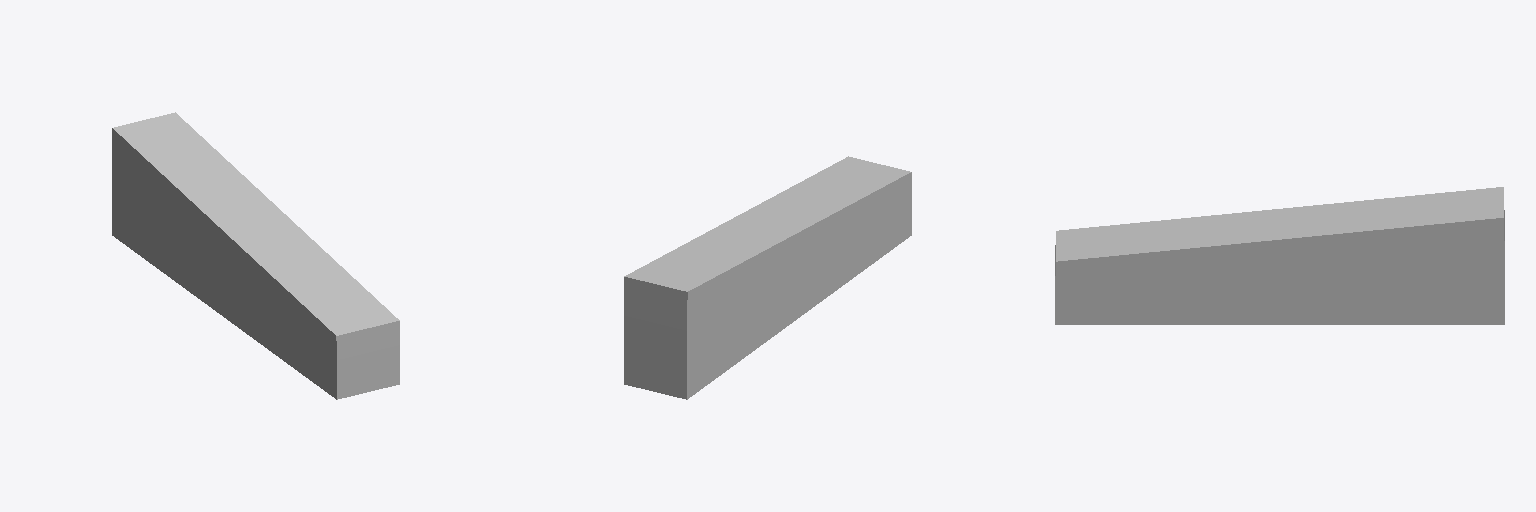
File: slope2.obj
3 renders of one model, left to right at view 1: azimuth 30°, elevation 25°; view 2: azimuth 150°, elevation 25°; view 3: azimuth 270°, elevation 25°, orthographic.
Parts seen in each view (by area): view 1: pCube1; view 2: pCube1; view 3: pCube1.
Part boxes in pixels (bbox=[...]): pCube1: bbox=[112, 112, 399, 399]; pCube1: bbox=[624, 156, 911, 399]; pCube1: bbox=[1055, 187, 1504, 324].
Bounding box in the file's own units: 12.33 × 20.02 × 75.85.